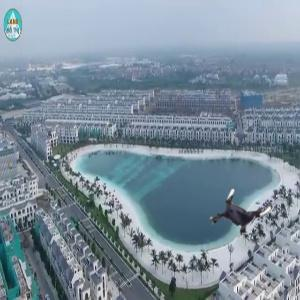drone: (213, 186, 270, 243)
